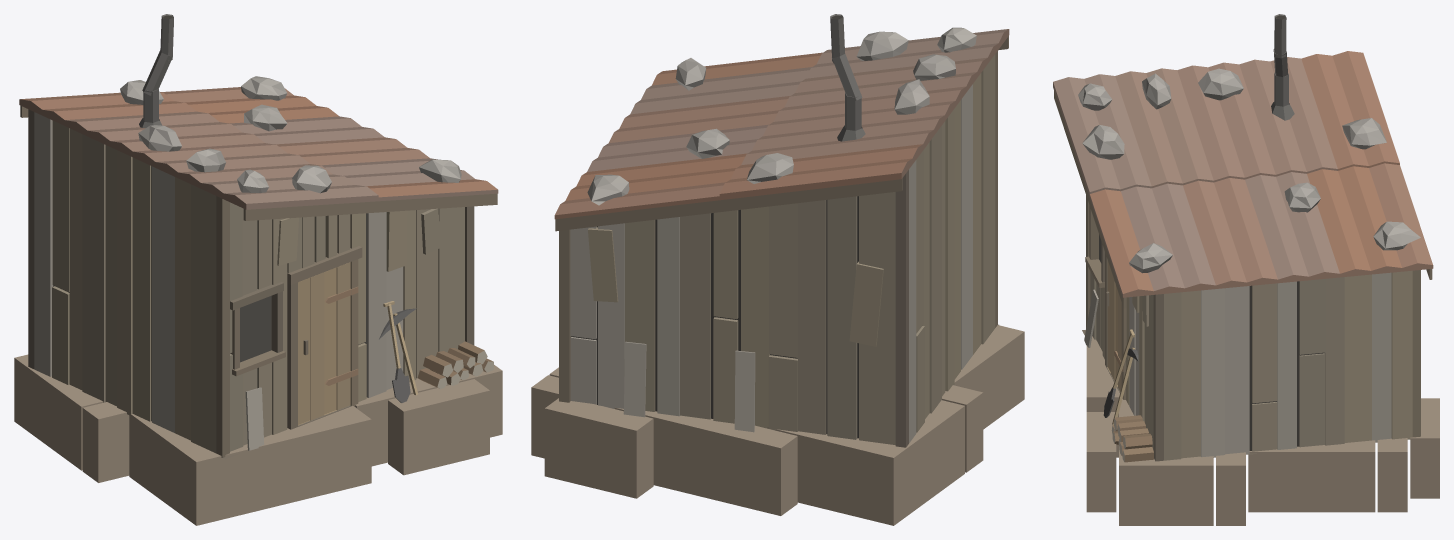
File: house_11.glb
The picture shows the model from 3 angles, left to right: view 1: azimuth 30°, elevation 25°; view 2: azimuth 150°, elevation 25°; view 3: azimuth 270°, elevation 25°; orthographic projection. The views are drawn at different scales.
Parts seen in each view (by area): view 1: house_11; view 2: house_11; view 3: house_11.
Part boxes in pixels (x1,y1,x2,y2): house_11: (14, 14, 502, 525); house_11: (531, 14, 1024, 525); house_11: (1053, 14, 1439, 525).
Bounding box in the file's own units: 5.98 × 6.72 × 5.98.
